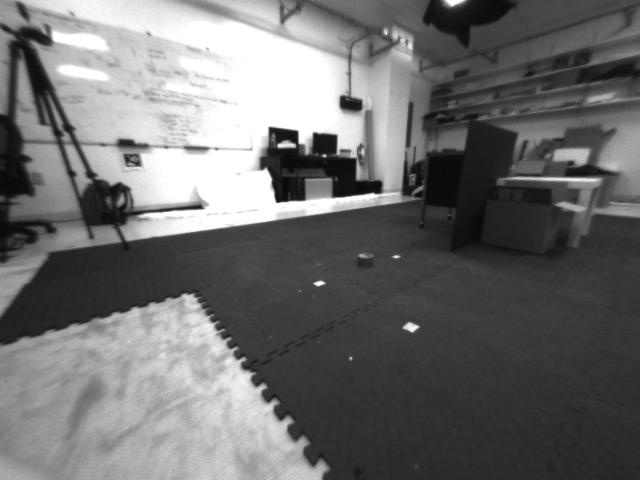dogtoy: (344, 244, 387, 270)
